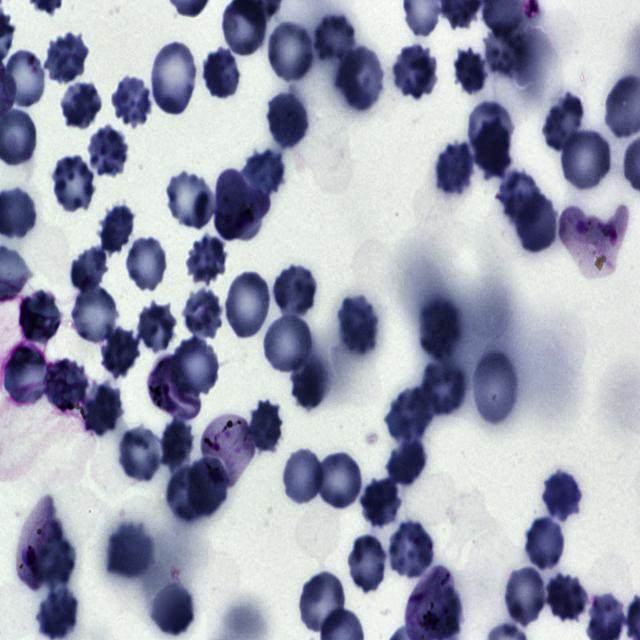difficult: (200, 412, 253, 487)
red blood cell: (147, 38, 199, 117), (470, 353, 520, 428), (223, 269, 273, 342), (214, 168, 262, 242), (559, 127, 613, 192), (261, 312, 314, 376), (1, 345, 52, 411), (336, 45, 386, 112), (297, 571, 348, 636), (416, 292, 463, 362), (68, 283, 120, 346), (512, 189, 560, 257), (312, 451, 364, 512), (164, 168, 215, 229), (106, 519, 154, 582), (387, 520, 436, 581), (266, 21, 314, 83), (420, 357, 468, 419), (174, 339, 222, 398), (42, 357, 90, 416), (502, 566, 548, 627), (50, 155, 98, 213), (148, 579, 195, 638), (336, 294, 380, 356), (17, 289, 64, 347), (497, 168, 544, 226), (116, 425, 162, 484), (390, 44, 438, 100), (124, 235, 170, 293), (382, 390, 431, 444), (266, 90, 310, 150), (272, 264, 319, 320), (4, 48, 47, 109), (280, 448, 326, 505), (542, 95, 587, 153), (186, 455, 228, 516), (473, 118, 513, 182), (347, 535, 389, 595), (43, 31, 90, 84), (524, 516, 568, 572), (79, 383, 123, 439), (165, 468, 208, 525), (434, 139, 476, 197), (540, 469, 584, 524), (385, 434, 429, 489), (359, 478, 404, 531), (242, 147, 287, 200), (58, 81, 104, 131), (86, 127, 130, 179), (546, 572, 589, 625), (136, 302, 178, 356), (469, 100, 513, 151), (37, 535, 77, 591), (182, 288, 225, 340), (99, 326, 141, 379), (69, 244, 111, 296), (112, 75, 153, 128), (246, 398, 284, 455), (38, 586, 78, 640), (184, 235, 227, 284), (202, 49, 242, 101), (290, 355, 326, 412), (160, 414, 196, 471), (314, 13, 355, 60), (101, 201, 136, 254), (454, 47, 488, 93)
trophozoite: (560, 205, 631, 274), (17, 493, 62, 591), (404, 564, 454, 640), (147, 355, 200, 423)
